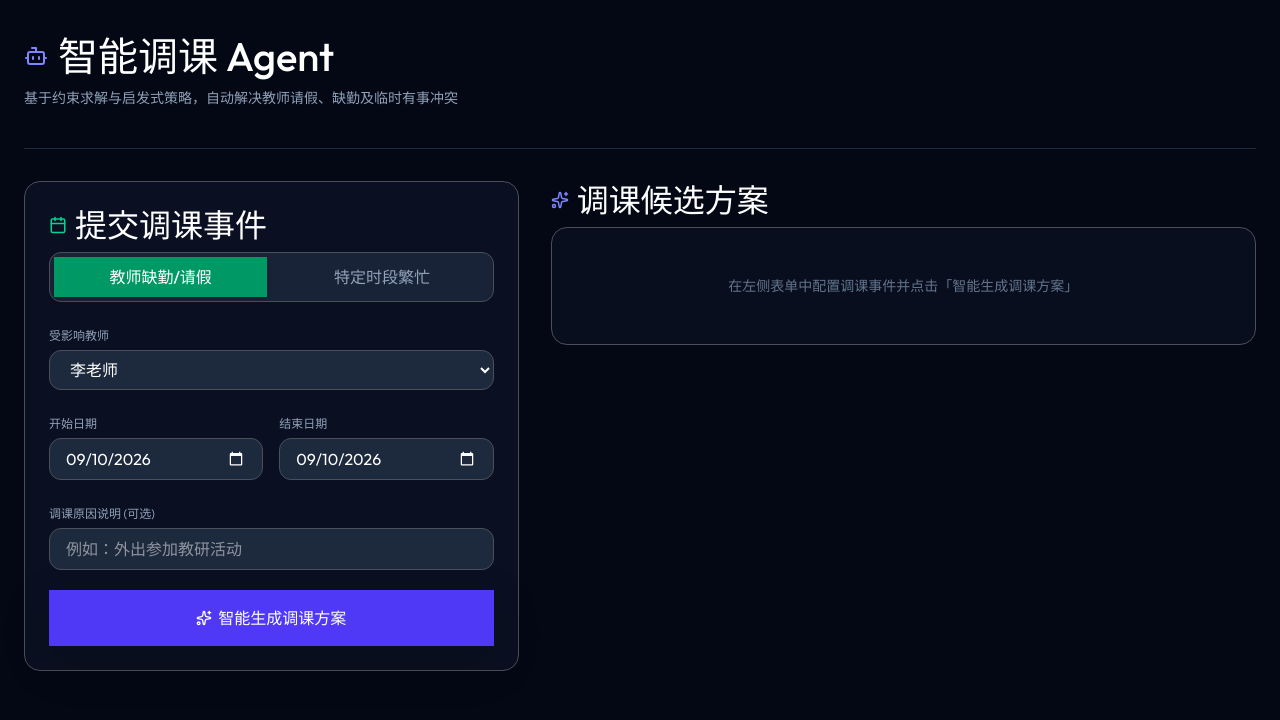
Test case: ChangeAgentPage › submits event and displays proposal cards
The width and height of the screenshot is (1280, 720).
Expected: the heading "智能调课 Agent" is shown, left=24, top=31, right=334, bottom=81
Click the button "智能生成调课方案". click: (271, 618)
box: left=49, top=590, right=494, bottom=646
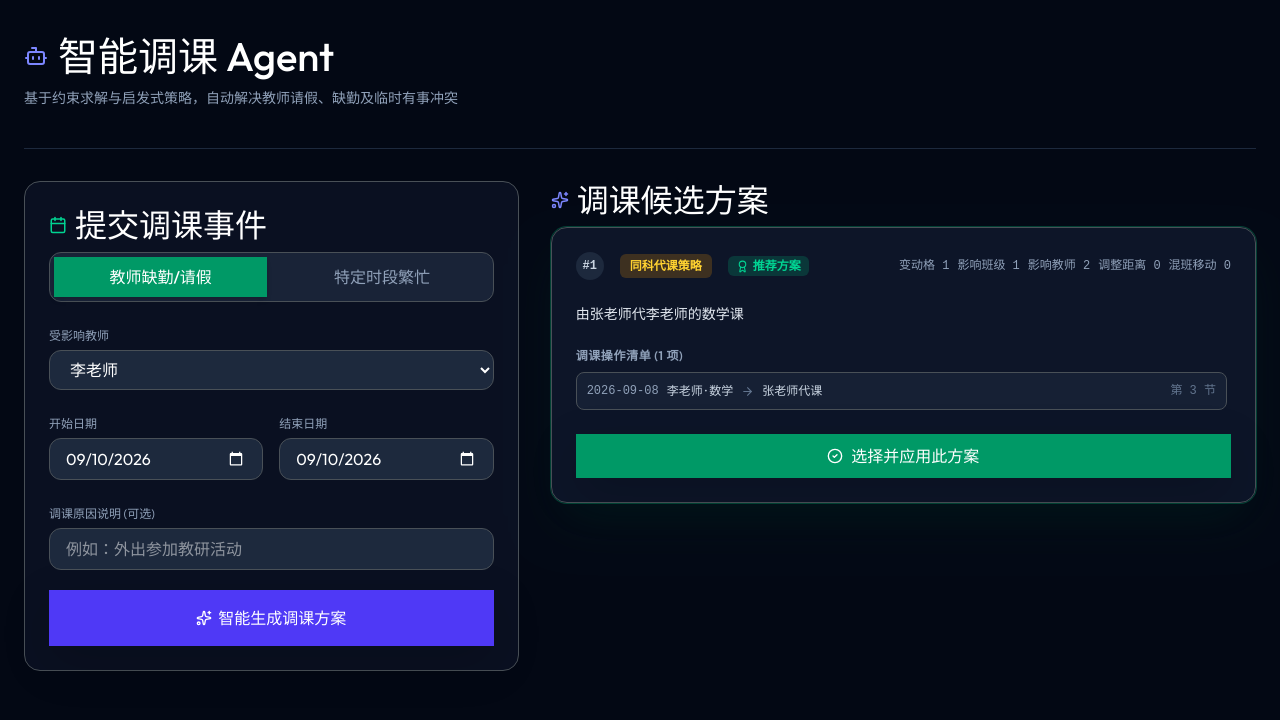
Expected: the text "由张老师代李老师的数学课" is shown, left=576, top=305, right=744, bottom=323
Expected: the text "同科代课策略" is shown, left=620, top=254, right=712, bottom=278
